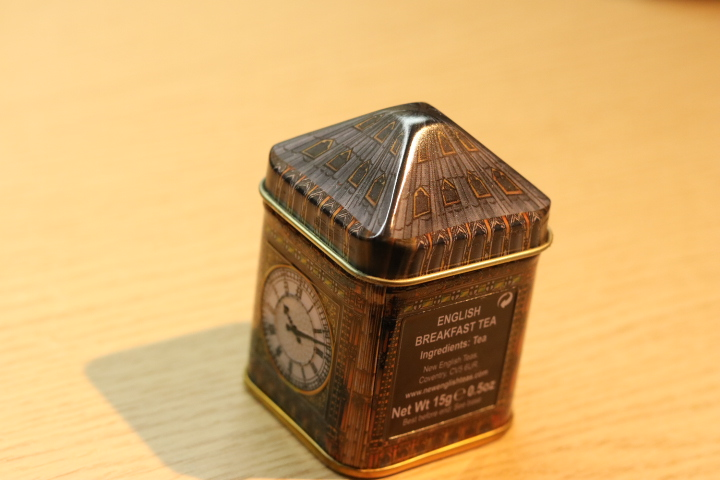Big Ben: (240, 91, 563, 480)
